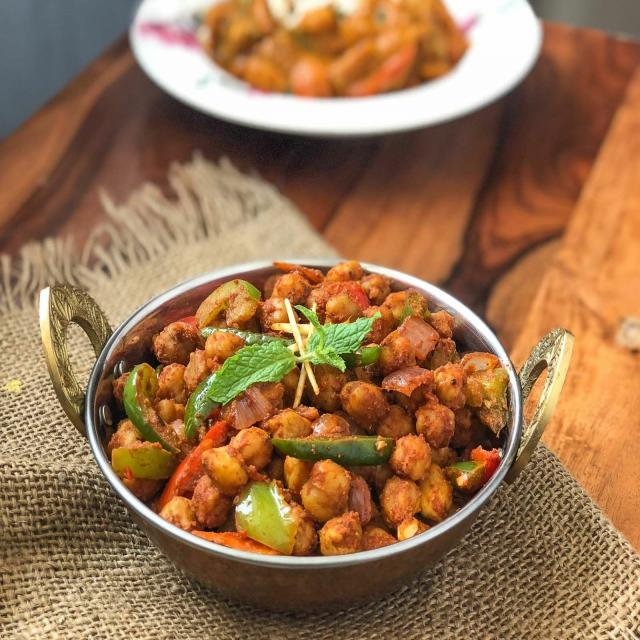Chole: (111, 262, 508, 556)
